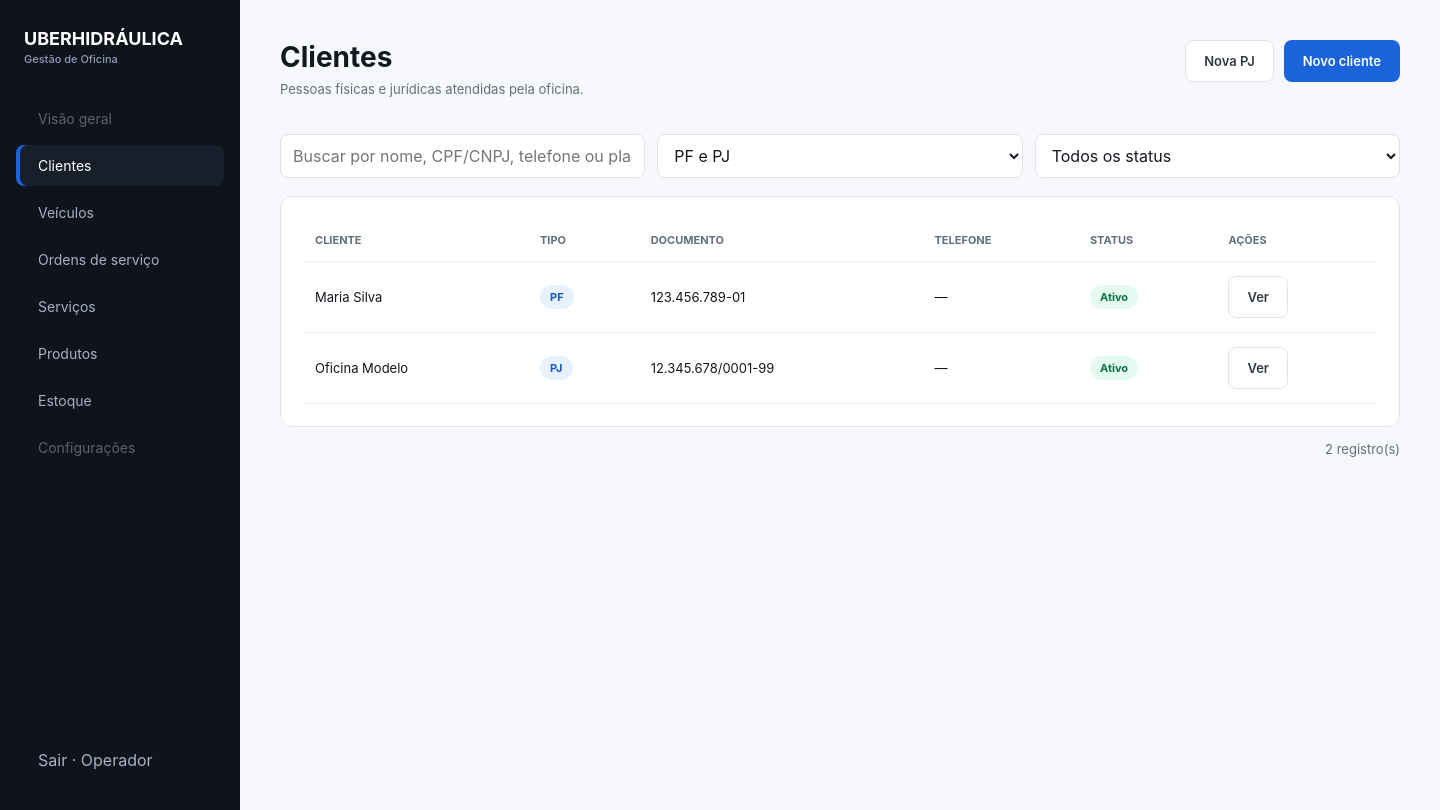
Test: REV-FE-001 busca 12.345.678/0001-99 pela interface
The image size is (1440, 810).
Expected: the cell "Maria Silva" is shown, [303, 262, 528, 332]
Type "temporário" into the field named "Buscar clientes" at (463, 156), box [280, 134, 645, 178]
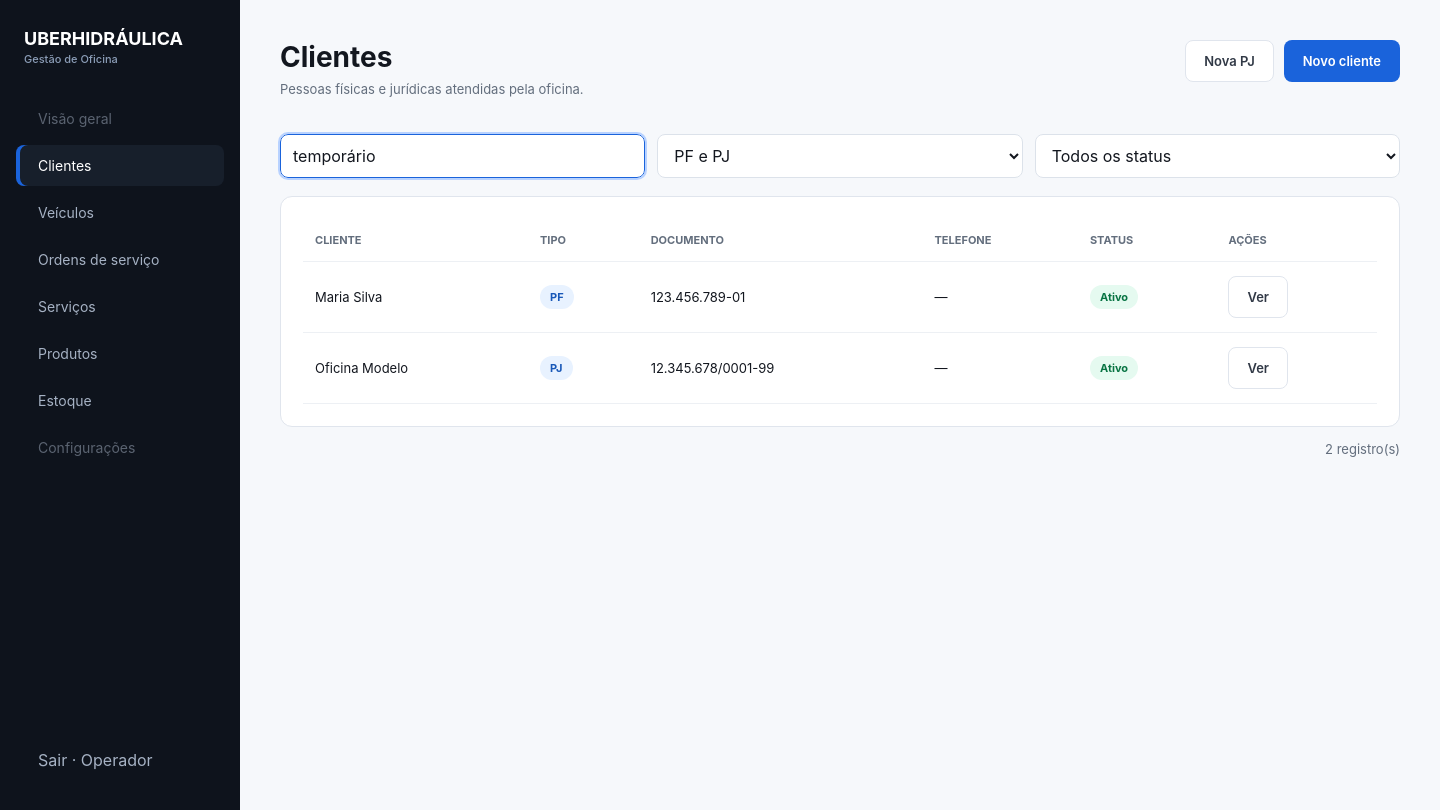
Replace the text in the field named "Buscar clientes" with "12.345.678/0001-99" at (463, 156), box [280, 134, 645, 178]
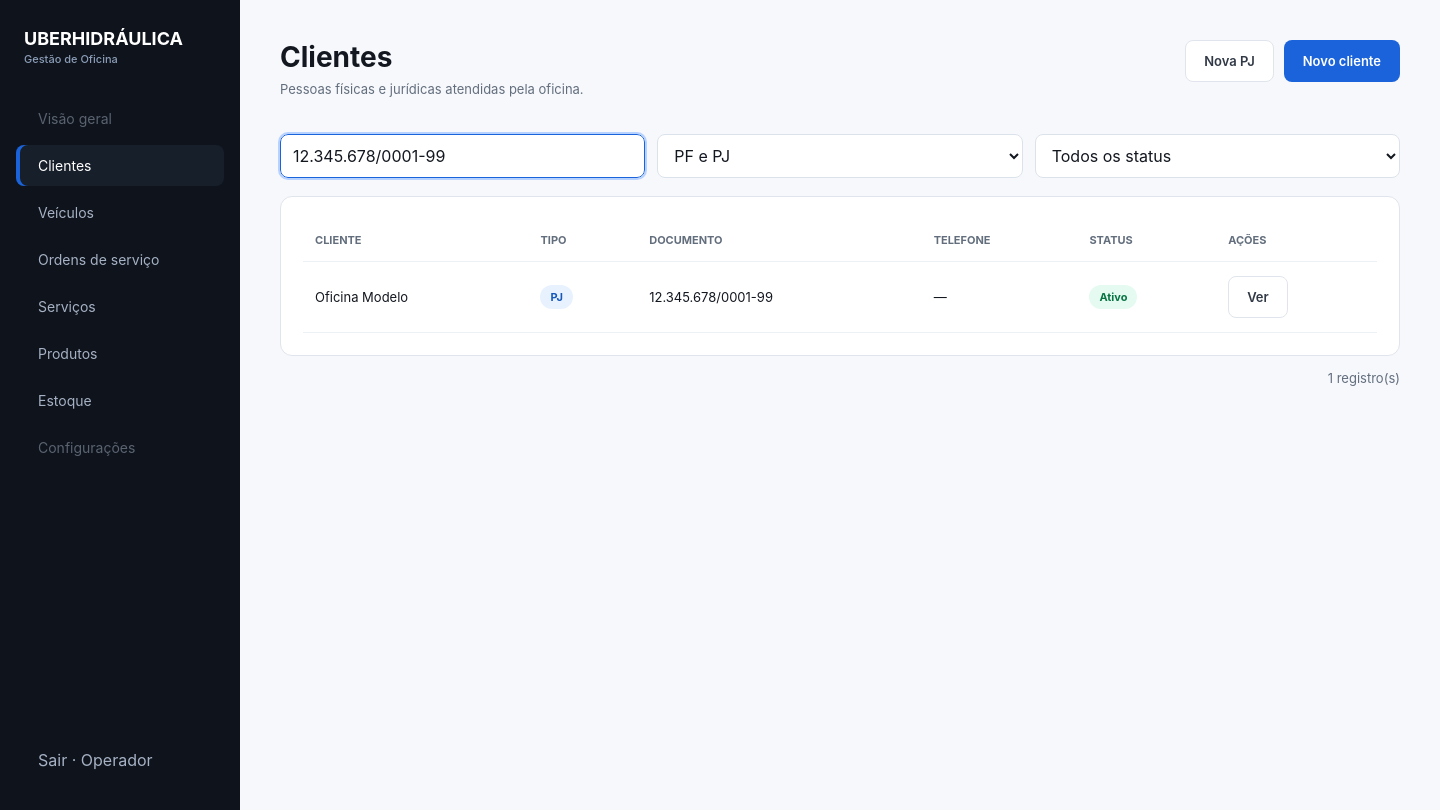
Expected: the cell "Oficina Modelo" is shown, [303, 262, 528, 332]
Now the cell "Maria Silva" is gone
